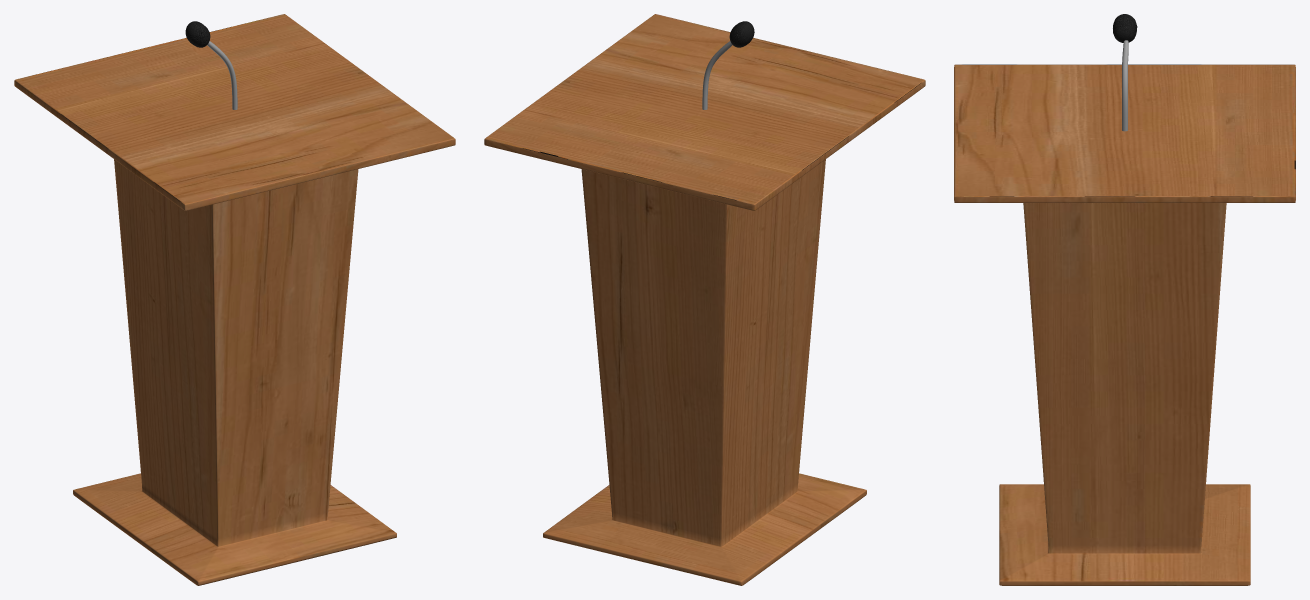
The model's file is pulpito.fbx.
3 views of the same model, side by side, from view 1: azimuth 30°, elevation 25°; view 2: azimuth 150°, elevation 25°; view 3: azimuth 270°, elevation 25° (orthographic).
Visible parts, largest first — view 1: pulpito_LOD0; view 2: pulpito_LOD0; view 3: pulpito_LOD0.
Part boxes in pixels (bbox=[...]): pulpito_LOD0: bbox=[14, 14, 455, 585]; pulpito_LOD0: bbox=[484, 14, 925, 585]; pulpito_LOD0: bbox=[954, 14, 1295, 585].
Size of what is drawn, in the model's own units: 72.78 by 129 by 79.6.
